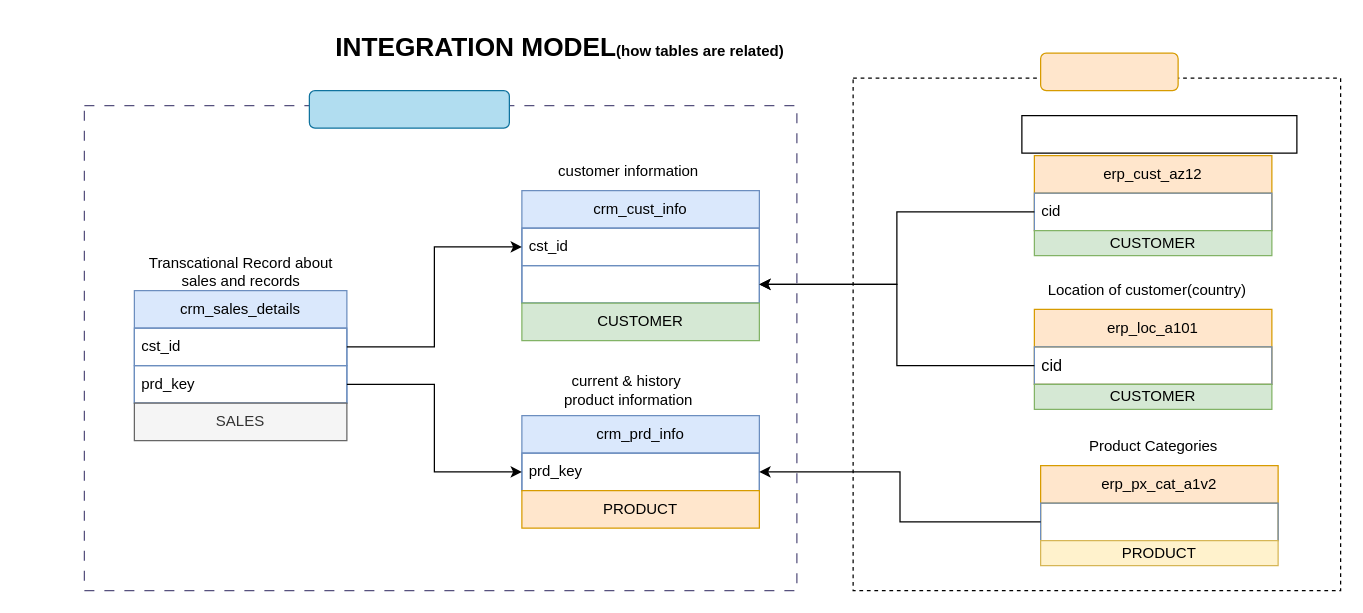
The diagram is 1363 pixels wide and 613 high, and some of its shapes have lost their labels. The centre of each missing label's shape, as x and y in pixels:
"CRM" belongs at pixel 408 108.
"cst_key" belongs at pixel 640 283.
"ERP" belongs at pixel 1108 71.
"extra customer information(Birthdate)" belongs at pixel 1159 133.
"id" belongs at pixel 1158 521.
